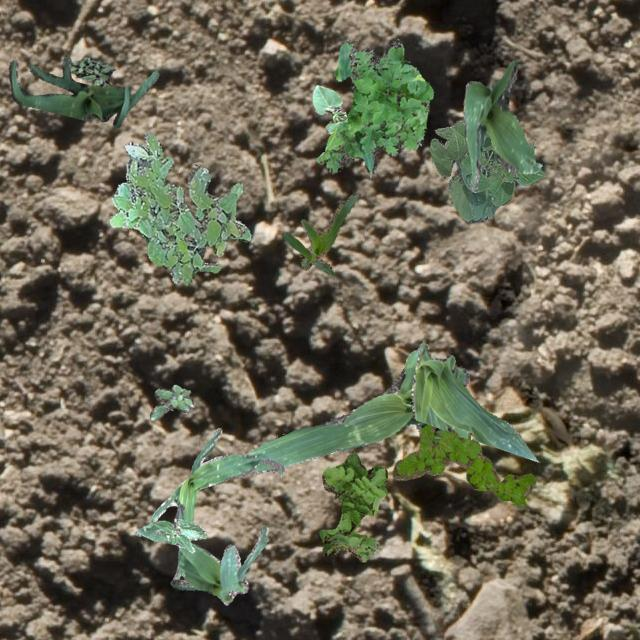crop: (245, 349, 470, 473), (148, 426, 284, 578), (411, 340, 537, 460), (428, 120, 544, 222), (8, 54, 158, 126), (462, 60, 540, 190), (170, 504, 266, 604), (282, 192, 358, 274), (134, 518, 207, 552), (312, 84, 346, 132)
weed: (109, 132, 244, 284), (316, 39, 432, 172), (392, 422, 534, 504), (162, 185, 250, 282), (318, 450, 387, 560), (148, 384, 192, 419), (68, 56, 114, 86)
